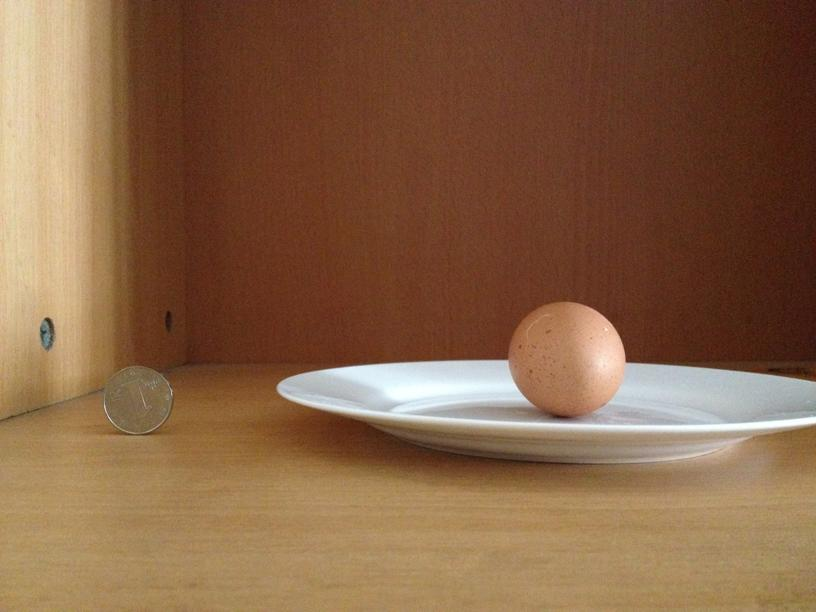coin: (103, 366, 173, 433)
egg: (508, 300, 626, 417)
